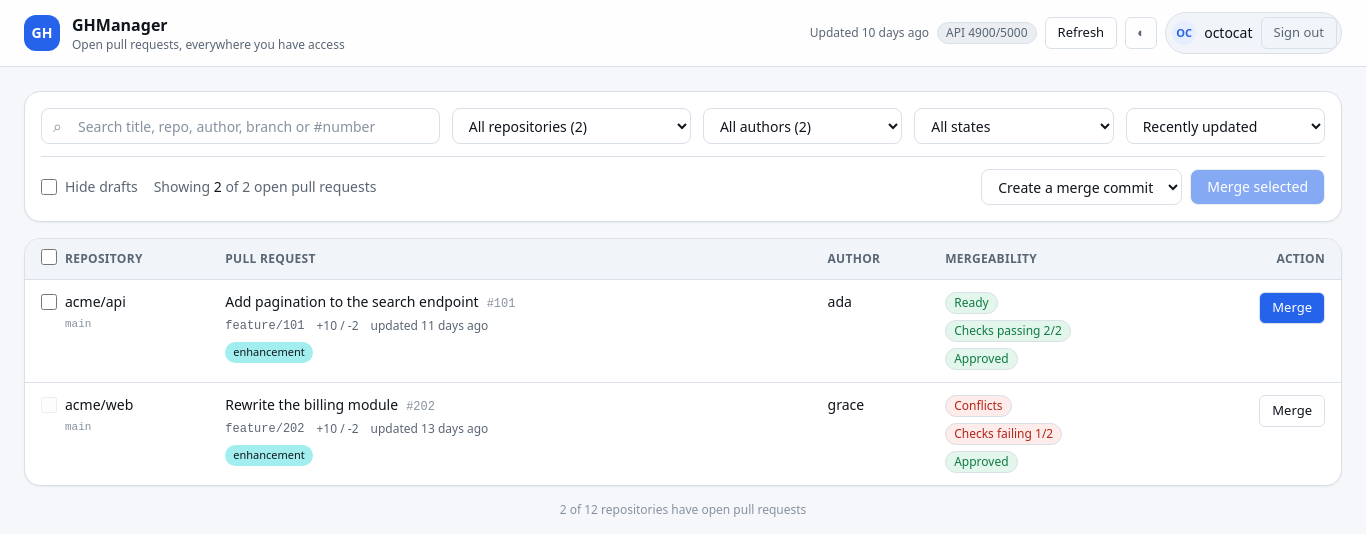
Dashboard data display › filters the table by search text
Expected: the table is shown, [25,239,1341,485]
Type "billing" into the search field named "Search pull requests".
click(240, 126); type("billing")  # box [41,108,440,144]
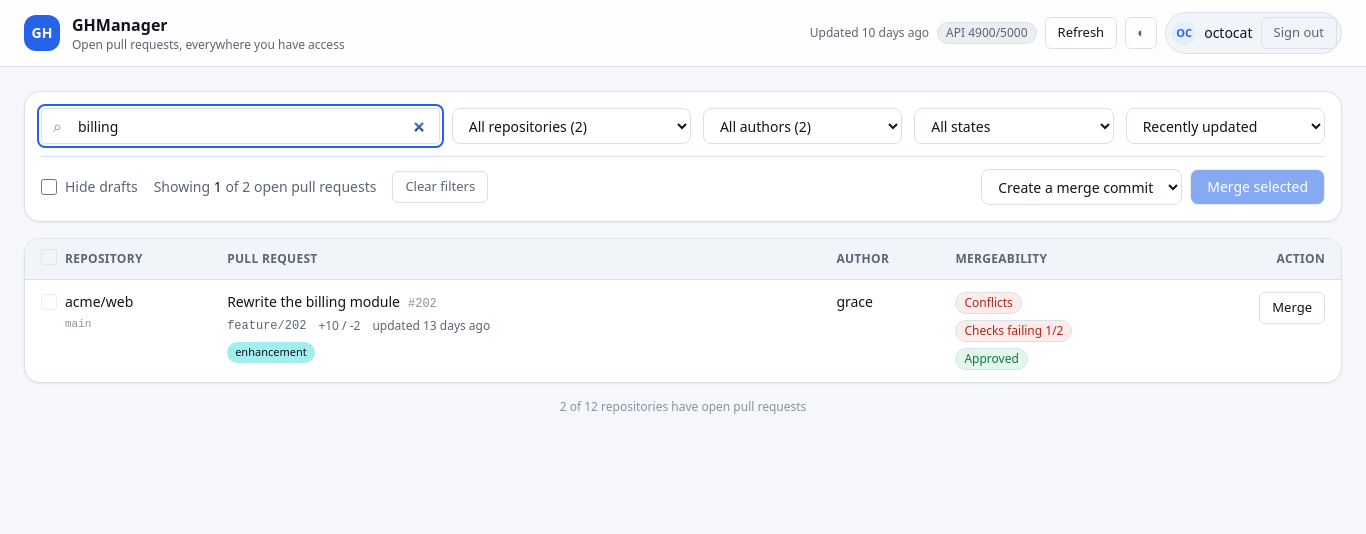
Expected: the link "#202" is shown, [408,296,437,312]
Expected: the link "#101" is gone
Expected: the text "Showing 1 of 2 open pull requests" is shown, [154,177,376,197]
